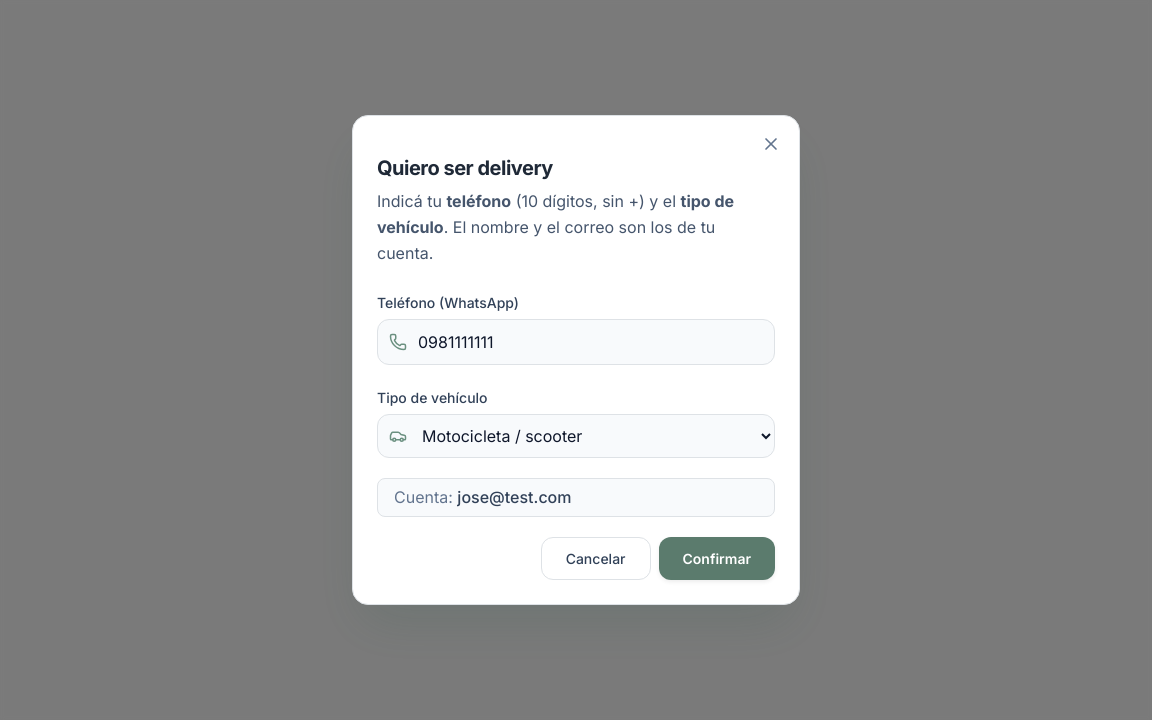
Test: BecomeDeliveryModal › muestra error de validación si el teléfono está vacío
Clear the field with placeholder "09xxxxxxxx": (576, 342) top-left (377, 319), bottom-right (775, 365)
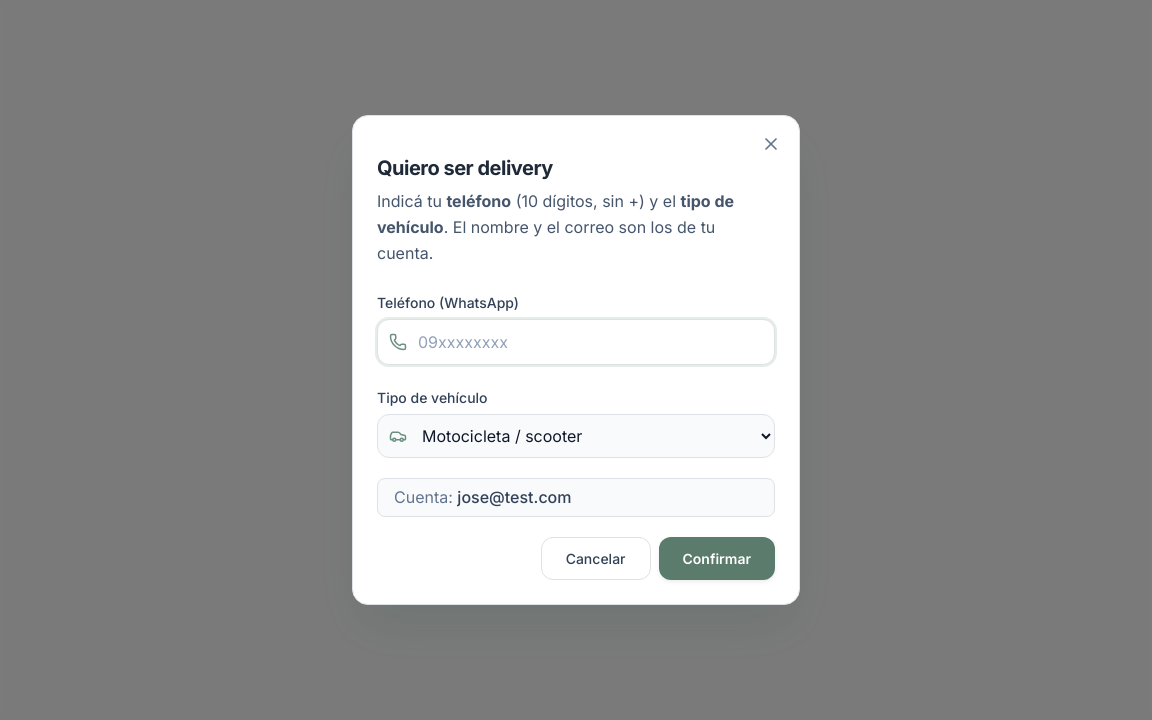
Click the button "Confirmar": (717, 559) top-left (658, 537), bottom-right (775, 580)
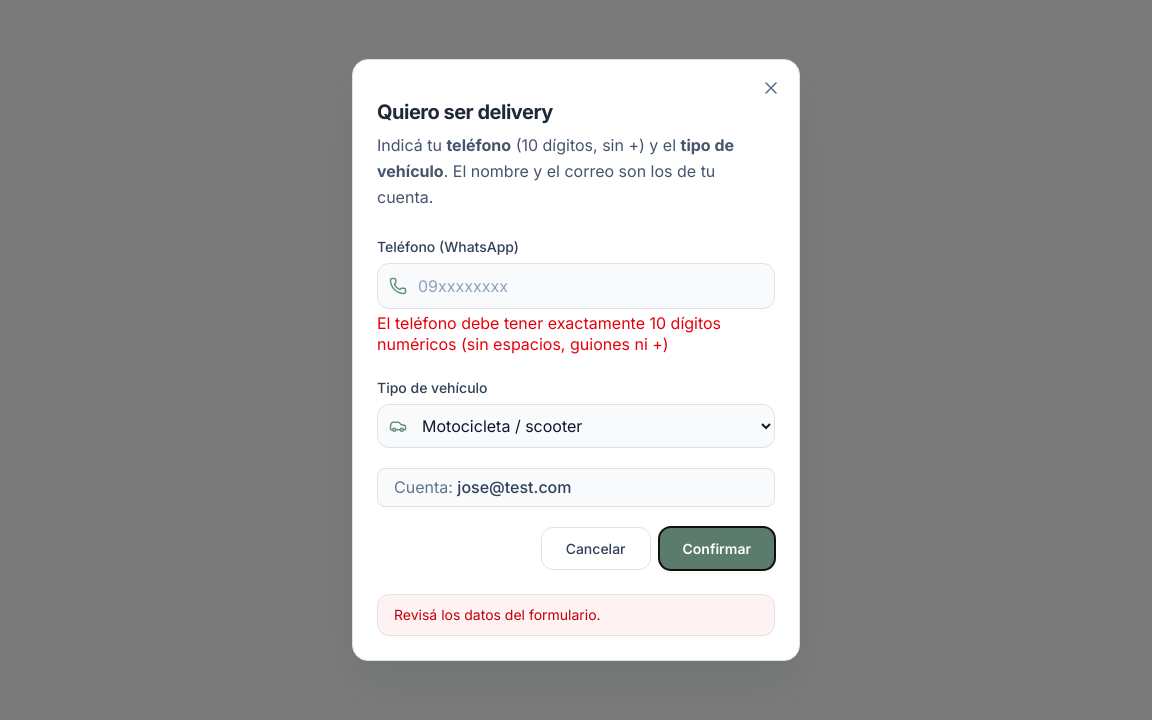
Now the text "Revisá los datos del formulario." is shown, box top-left (377, 594), bottom-right (775, 636)
